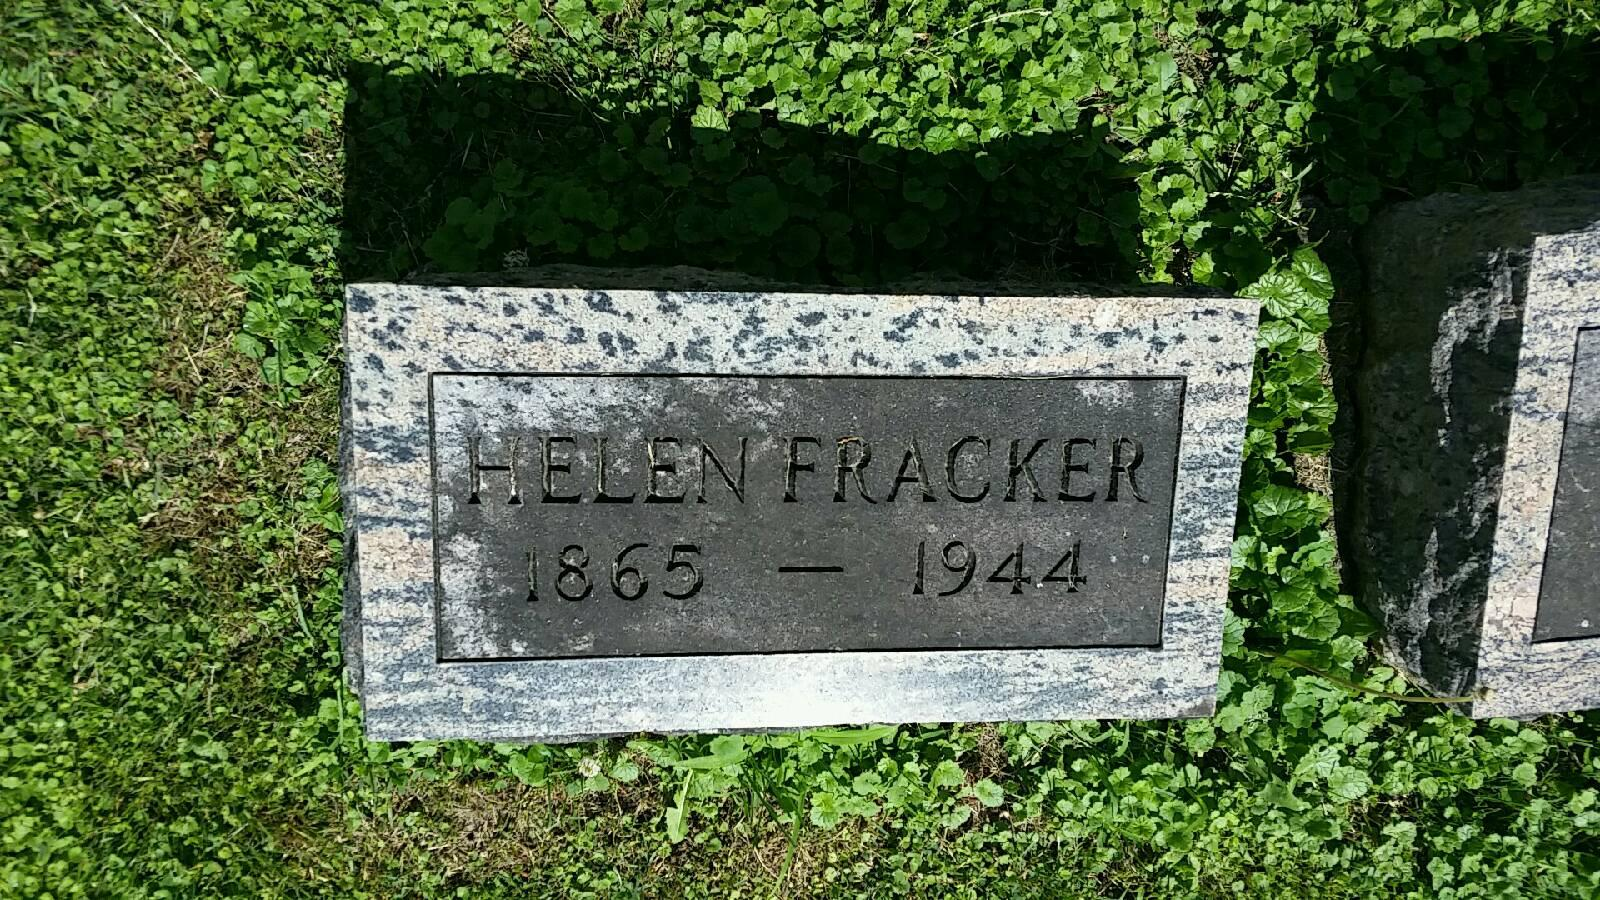flat: (321, 246, 1301, 776)
